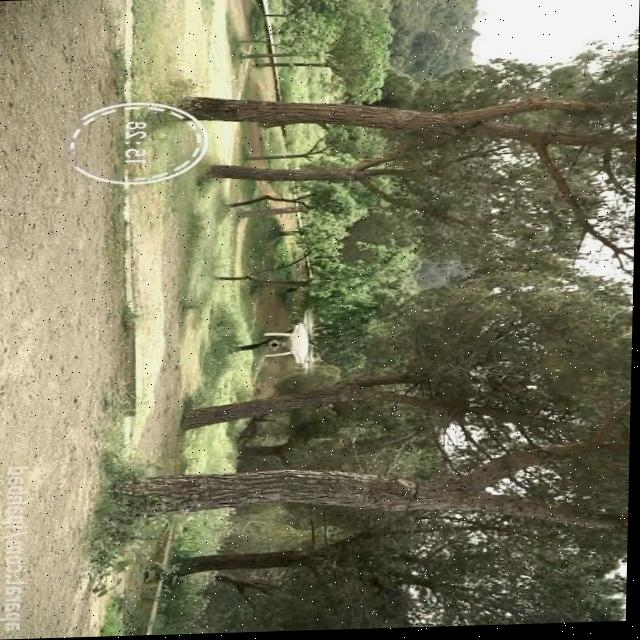drone: (264, 314, 325, 390)
